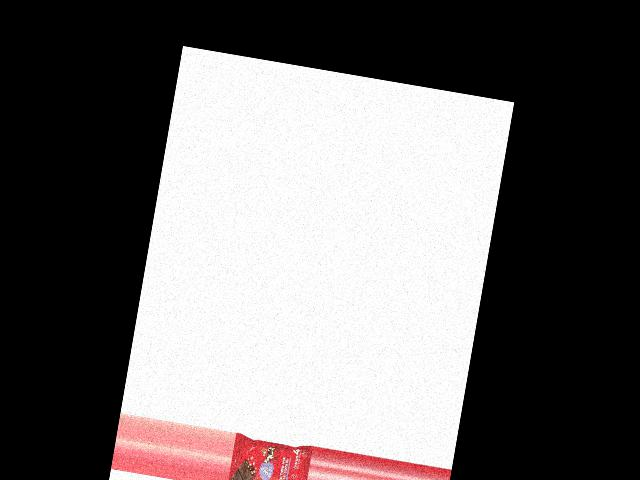chocolate: (226, 434, 313, 480)
